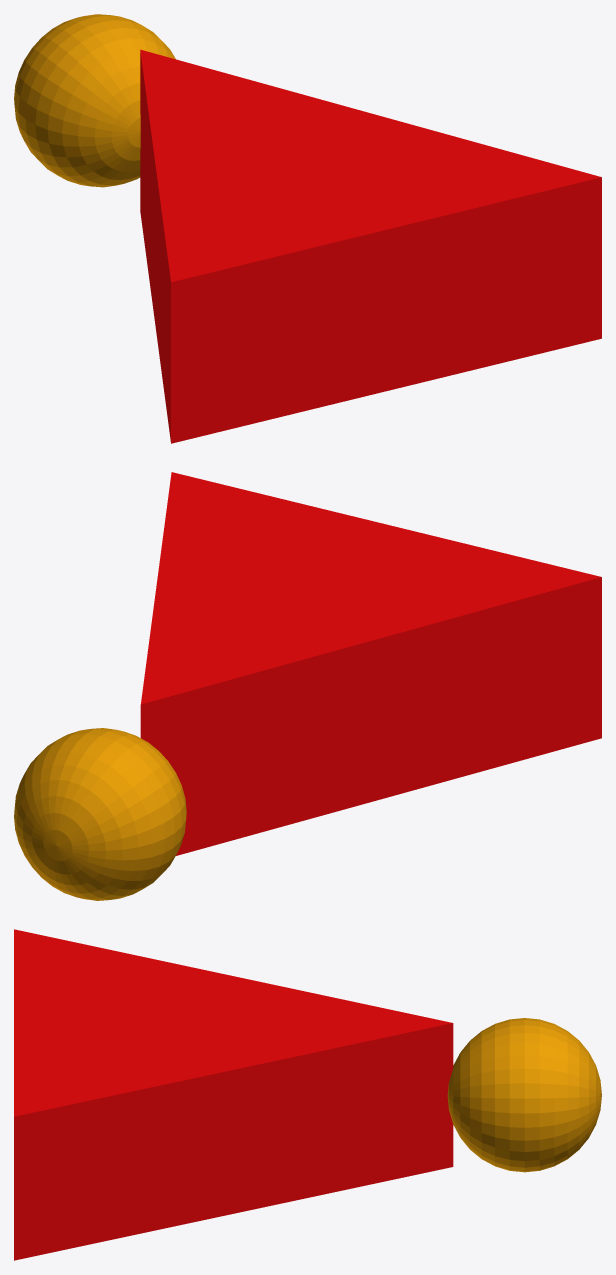
File: not.fbx
3 views of the same model, one above another, from view 1: azimuth 30°, elevation 25°; view 2: azimuth 150°, elevation 25°; view 3: azimuth 270°, elevation 25° (orthographic). The views are drawn at different scales.
Parts seen in each view (by area): view 1: Cube.004; view 2: Cube.004; view 3: Cube.004.
Boxes of the visible parts, x1,y1,x2,y2 form: Cube.004: [14, 14, 601, 443]; Cube.004: [14, 472, 601, 900]; Cube.004: [14, 929, 601, 1260].
Bounding box in the file's own units: 199 × 71.35 × 264.
